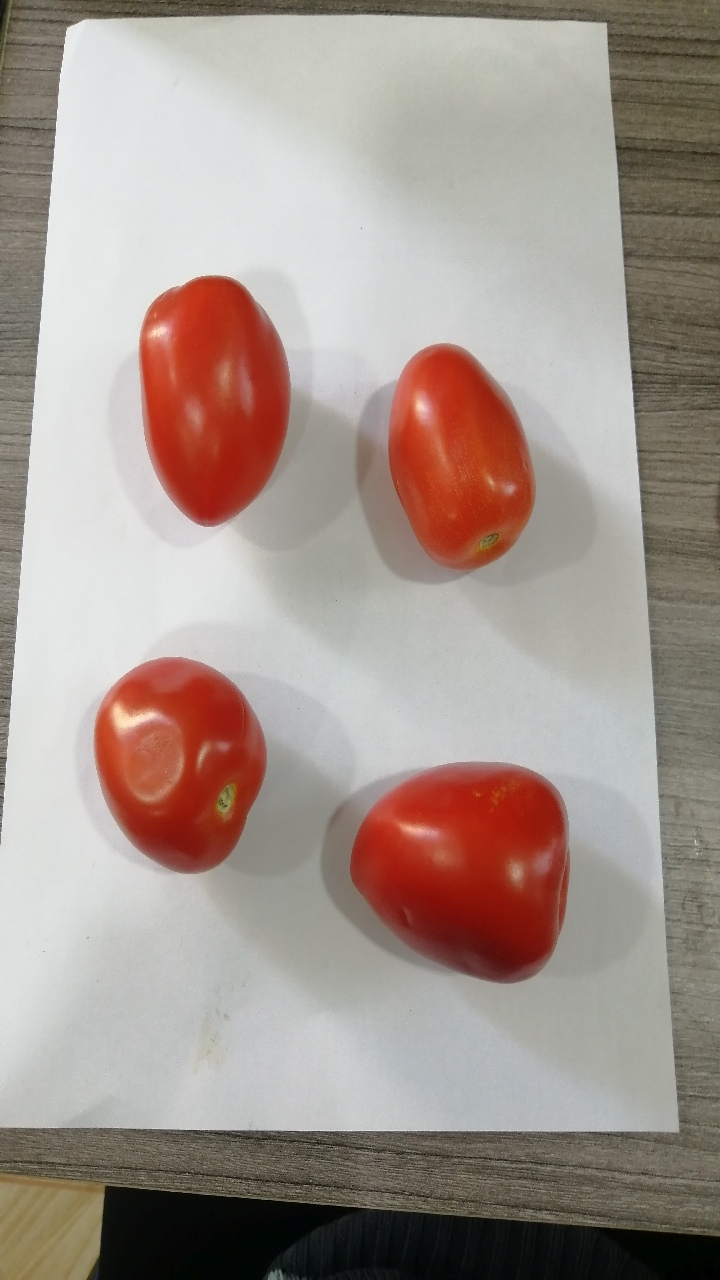tomateRojo: (337, 740, 598, 1009), (126, 251, 314, 549), (75, 635, 288, 889), (363, 325, 548, 583)
